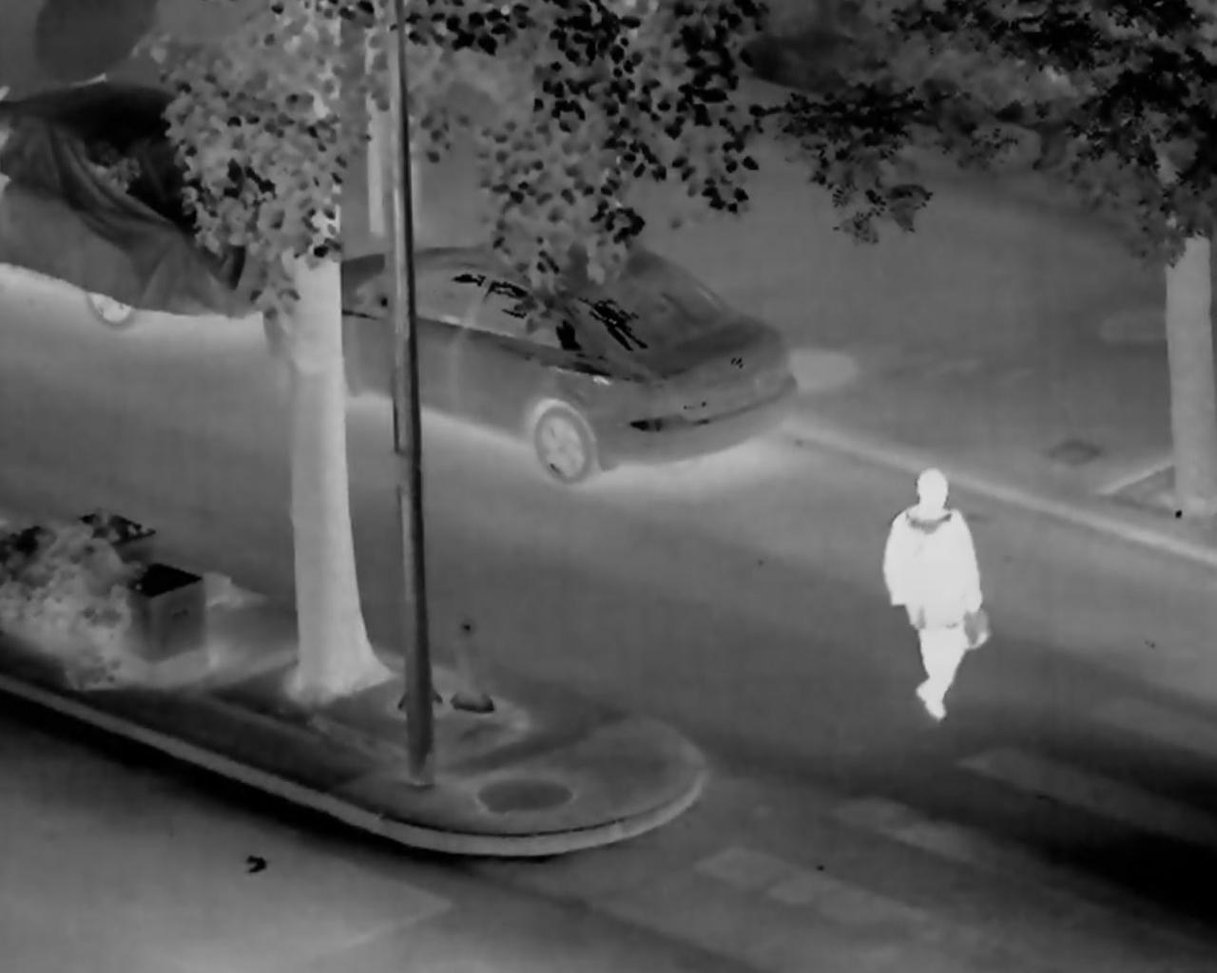person: (881, 469, 984, 720)
